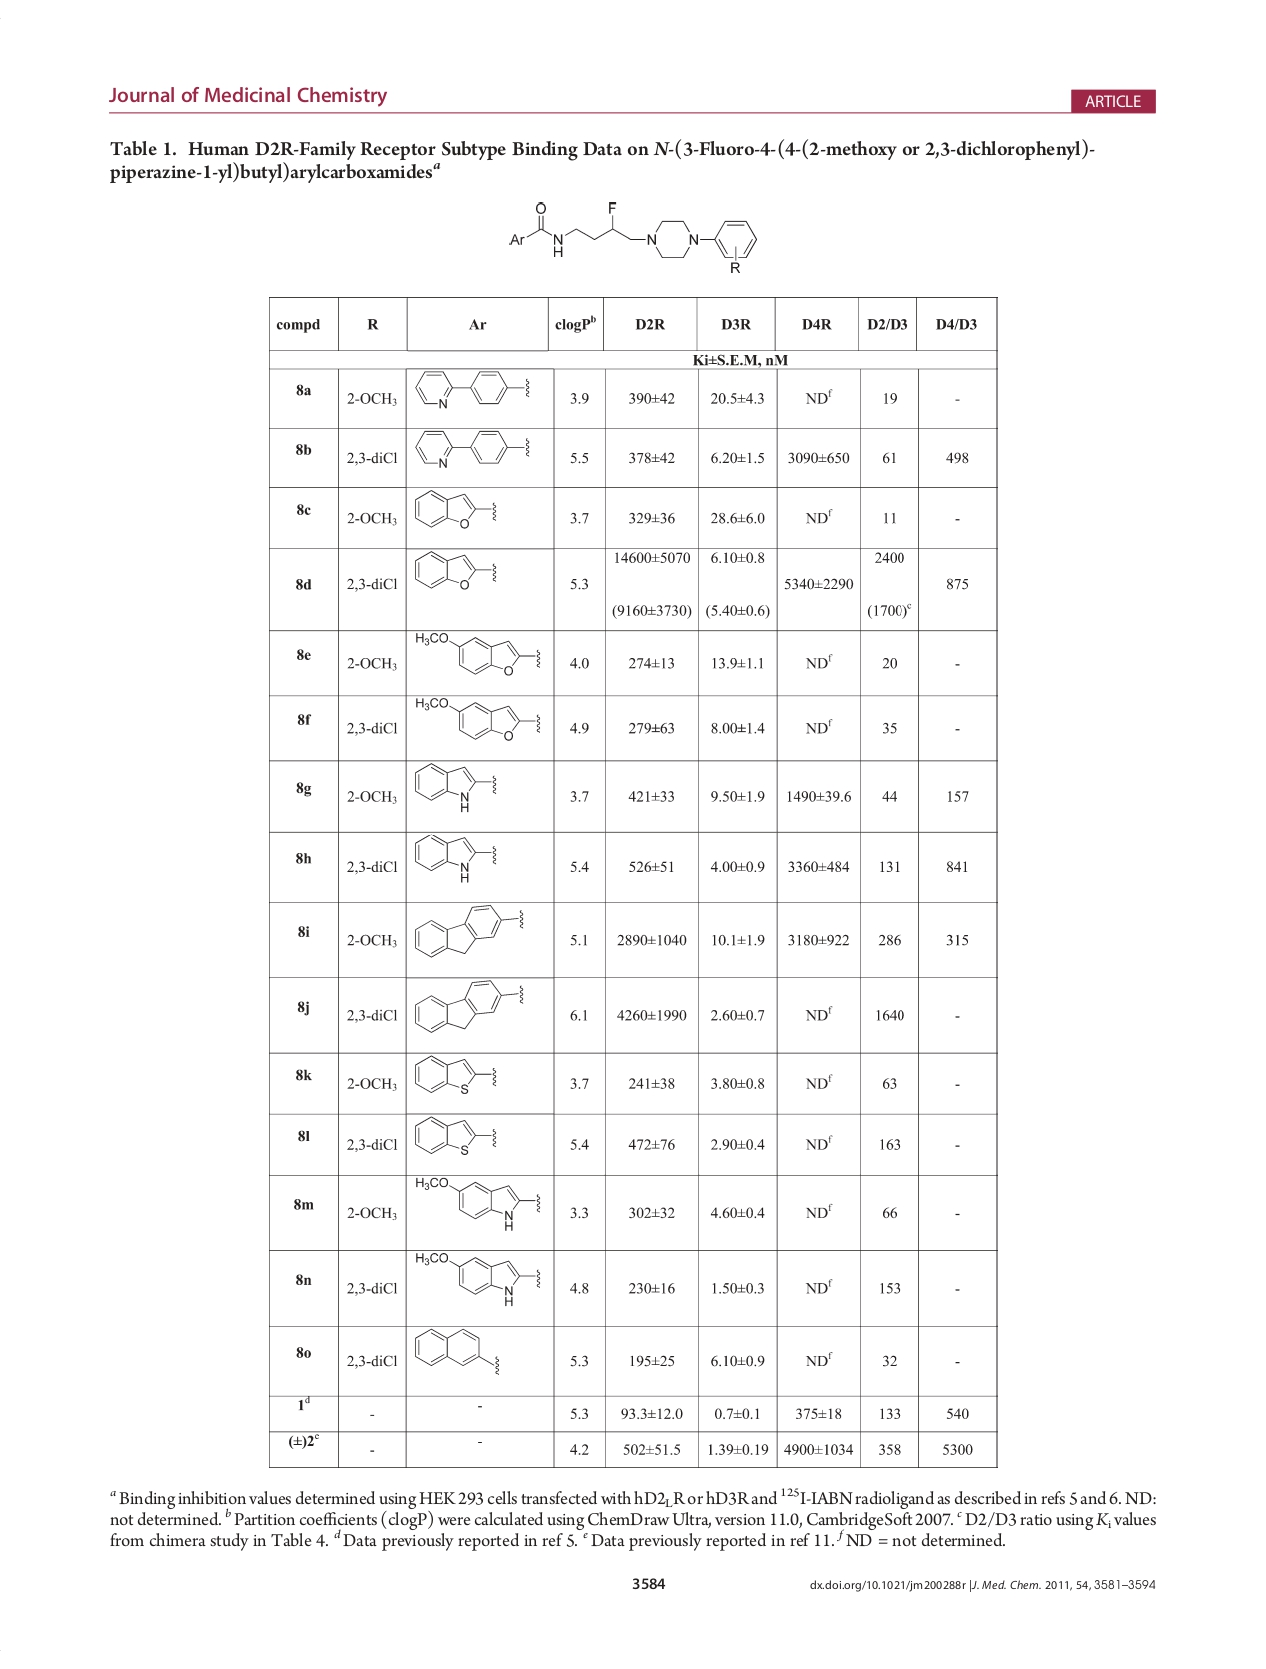exist_molecular: (501, 197, 759, 277), (411, 1250, 543, 1309), (411, 1176, 544, 1233), (414, 903, 527, 959), (414, 979, 527, 1035), (412, 630, 544, 677), (412, 696, 544, 742), (412, 370, 533, 410), (414, 430, 533, 469), (411, 833, 501, 884), (411, 761, 499, 814), (414, 1327, 503, 1378), (414, 489, 499, 533), (412, 1114, 499, 1156), (414, 551, 499, 592), (414, 1055, 500, 1094)
